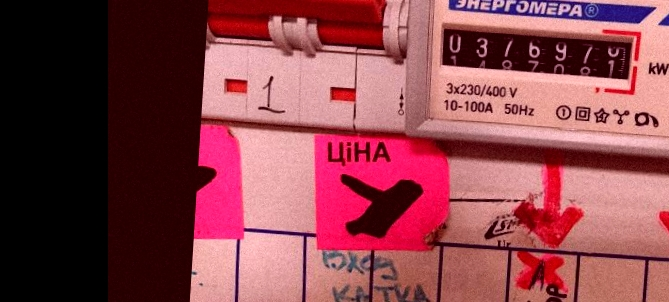0: (448, 30, 463, 53)
1: (605, 57, 618, 77)
3: (475, 35, 491, 57)
6: (527, 34, 543, 58)
7: (500, 33, 516, 57), (580, 40, 596, 64)
9: (553, 37, 569, 61)
screen: (430, 12, 645, 98)
